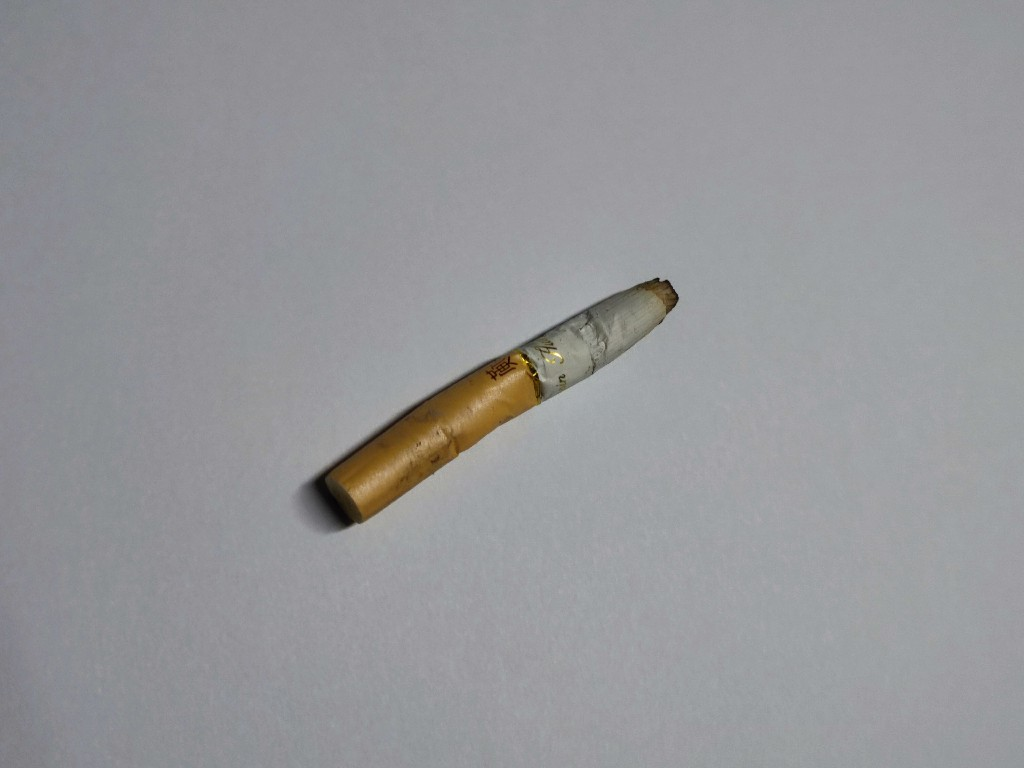cigarette: (318, 271, 683, 528)
